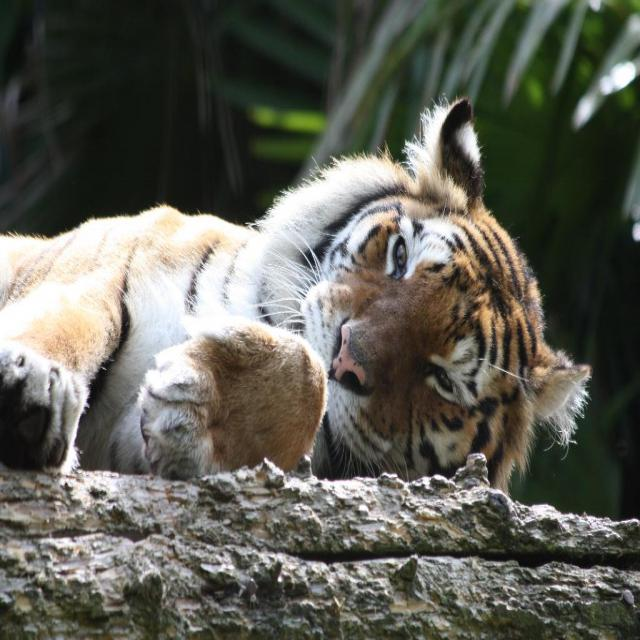Tiger: (0, 89, 592, 499)
